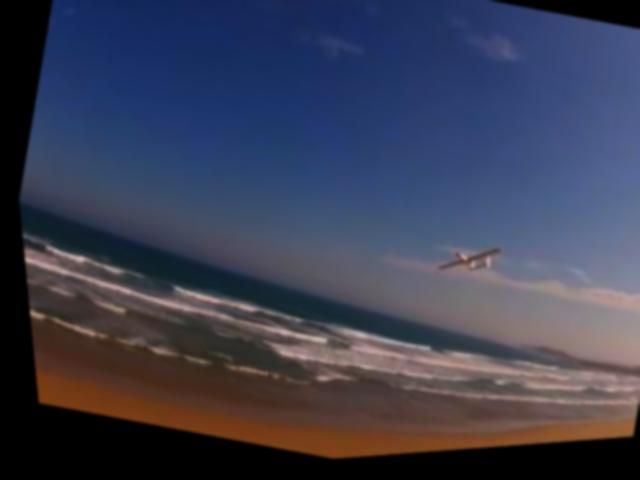uav: (417, 229, 506, 300)
